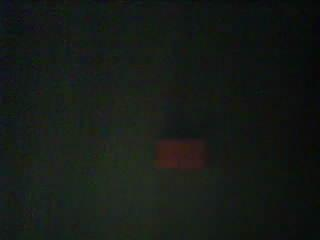lego: (153, 137, 209, 173)
